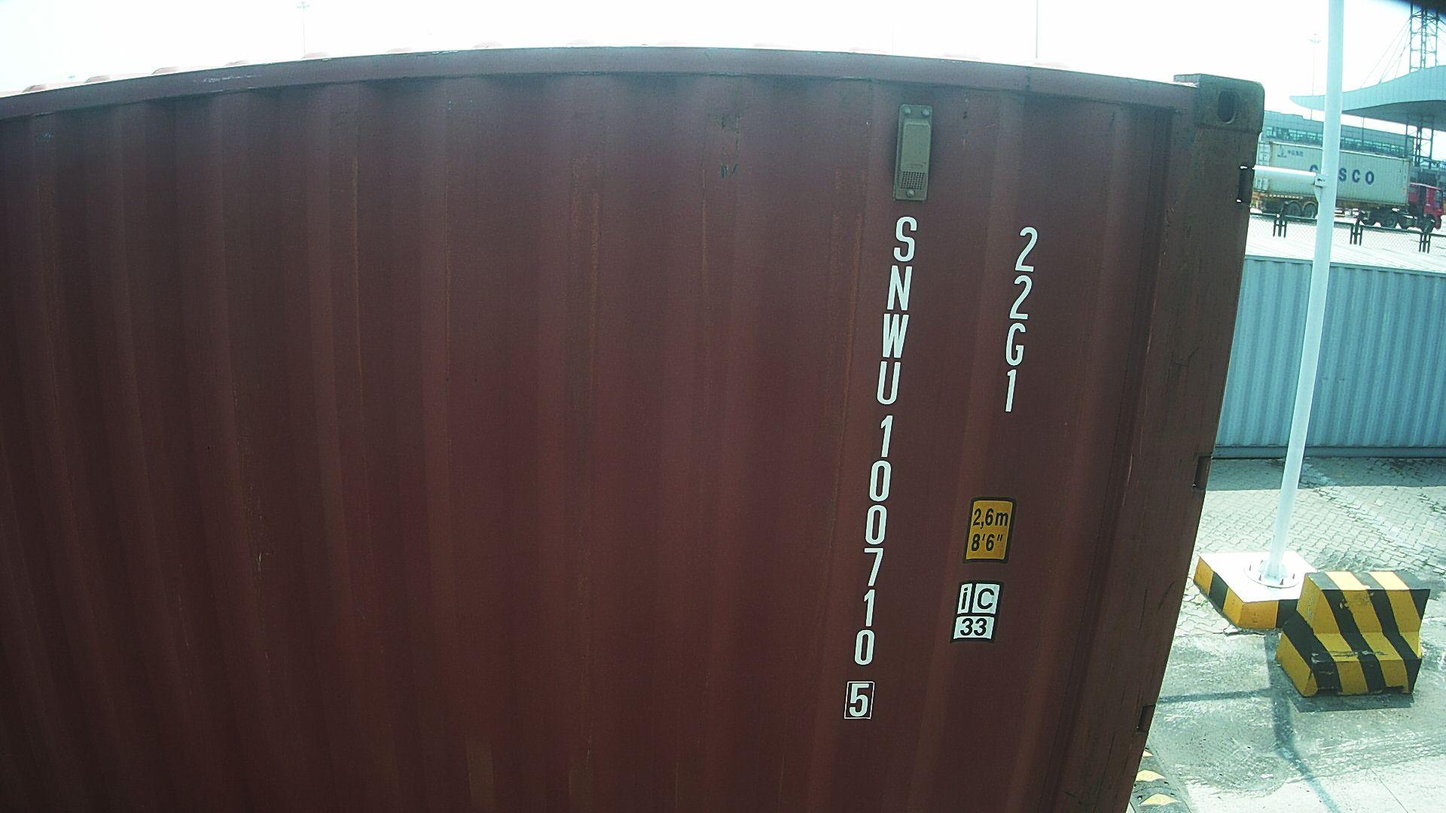container-numbers: (841, 210, 920, 727), (993, 222, 1042, 420)
